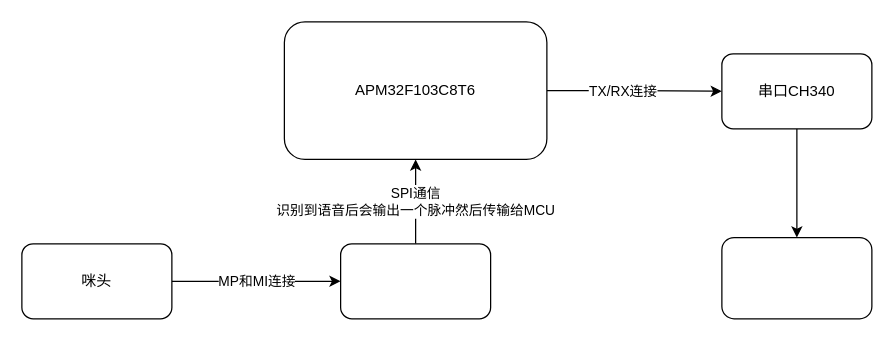
The diagram is 894 pixels wide and 341 high, and some of its shapes have lost their labels. Each missing label, with the centre of its shape:
LD3320: point (415, 280)
上位机 串口远程更新固件 和输出识别语音: point (796, 277)
